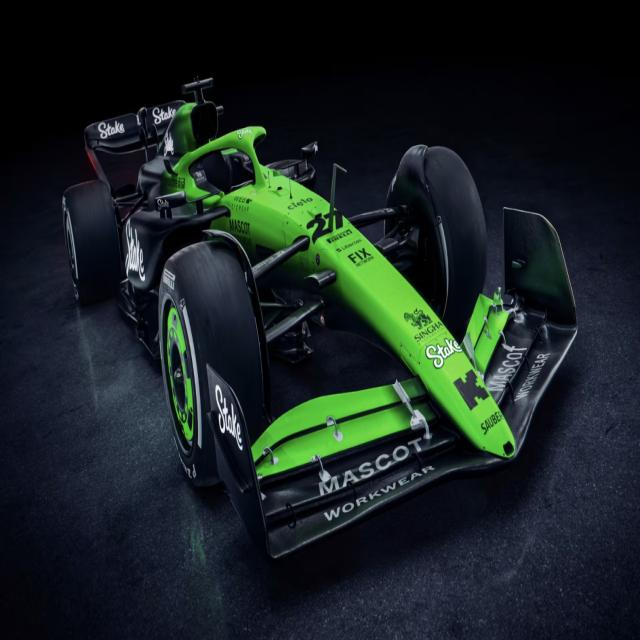Kick Sauber: (64, 74, 580, 564)
